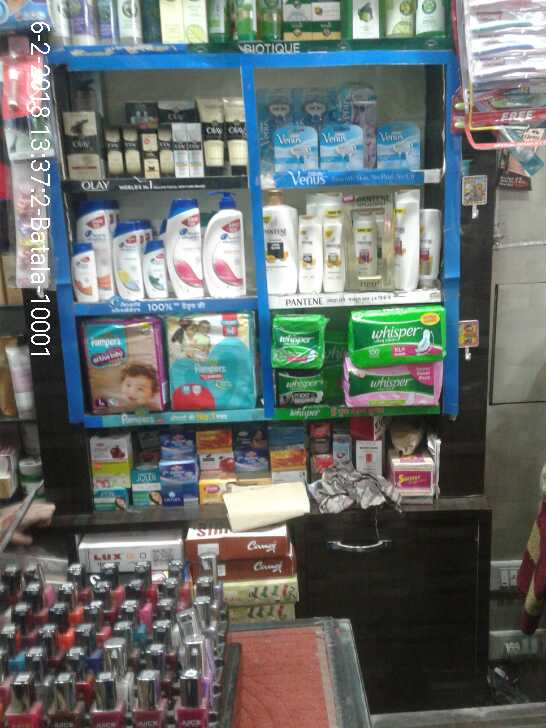venus: (275, 123, 319, 172), (375, 122, 419, 165), (321, 121, 361, 167), (326, 87, 376, 116), (261, 90, 295, 121), (295, 87, 326, 121)
